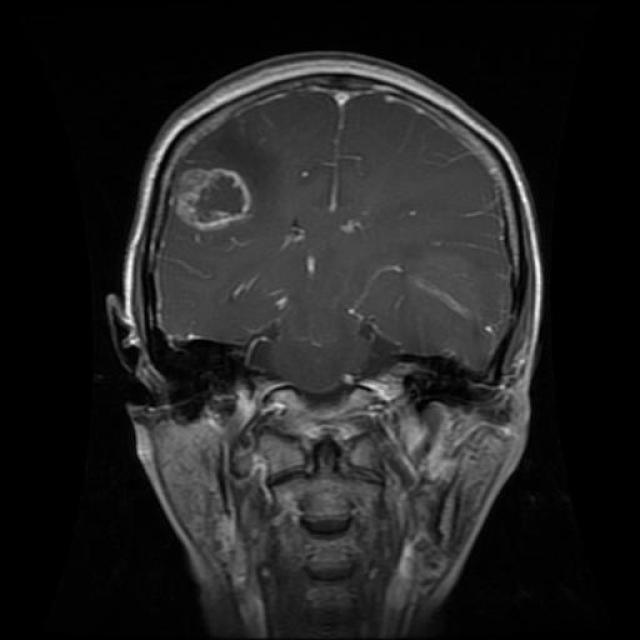glioma: (158, 158, 248, 258)
